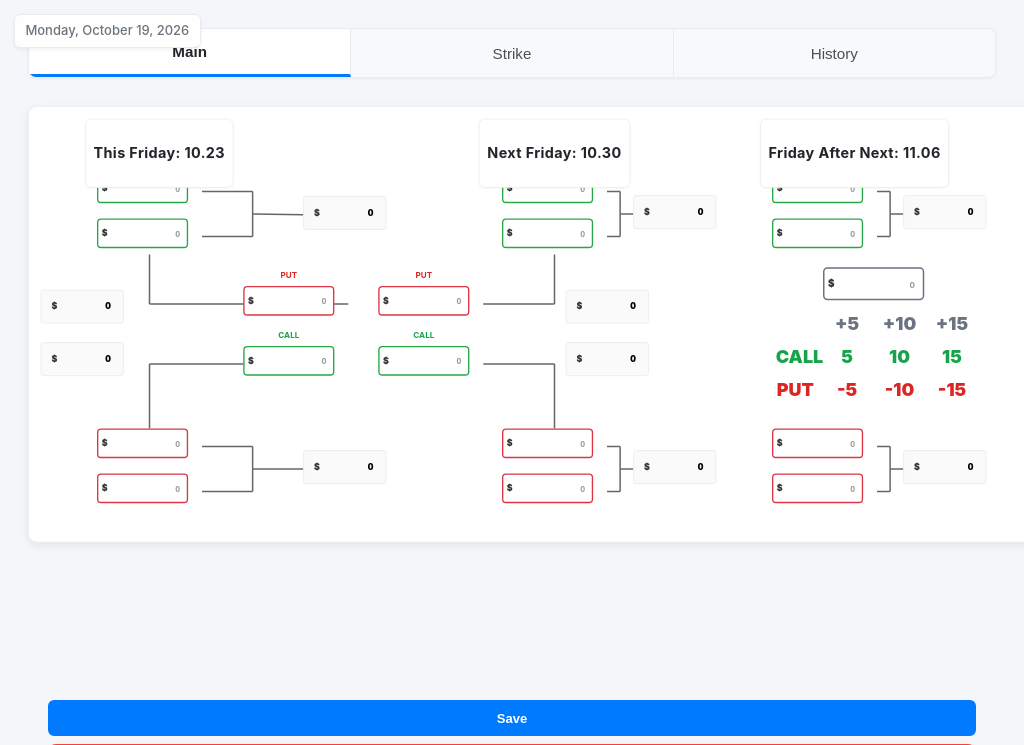
Test: App Integration Tests › Complete Input-to-Output Flow › should handle multiple calculations from same input
Input values
Type "100" into the 9th field with placeholder "0".
click(143, 443); type("100")  # box [97,428,188,458]
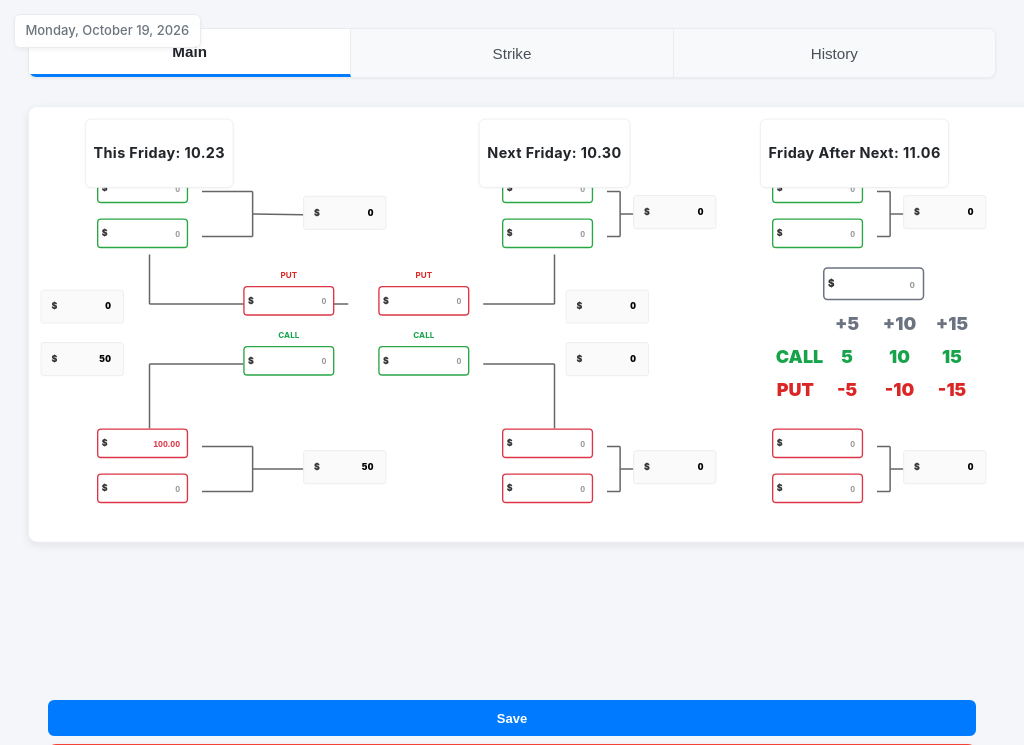
Type "200" into the 11th field with placeholder "0".
click(143, 488); type("200")  # box [97,474,188,503]
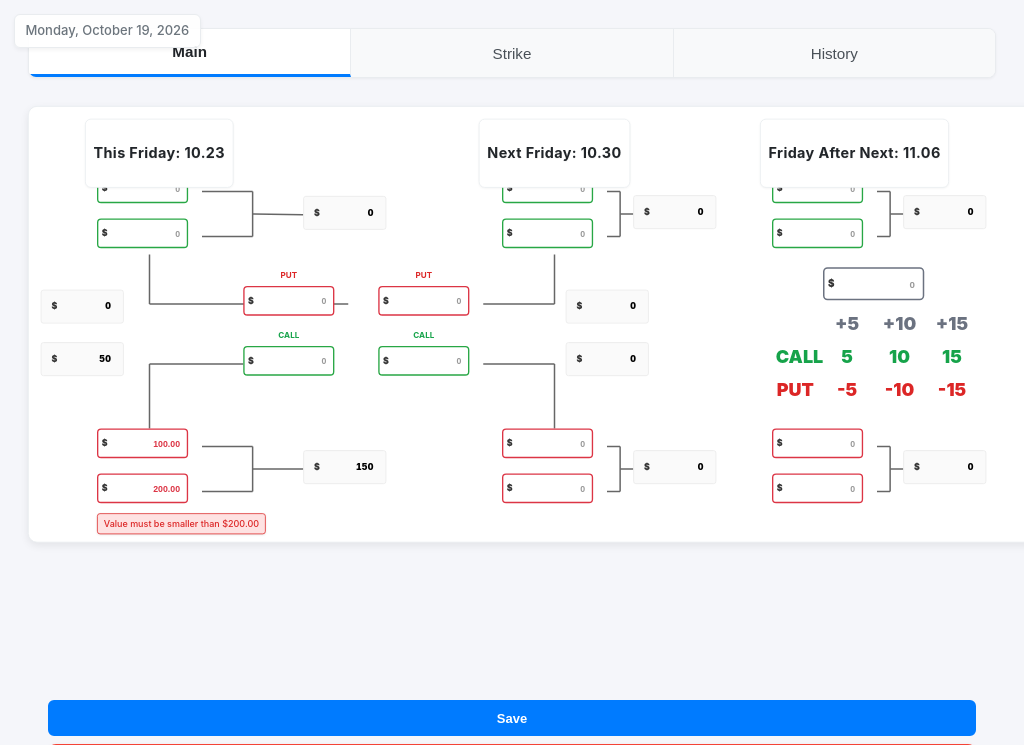
Type "300" into the 7th field with placeholder "0".
click(289, 361); type("300")  # box [243,346,334,376]
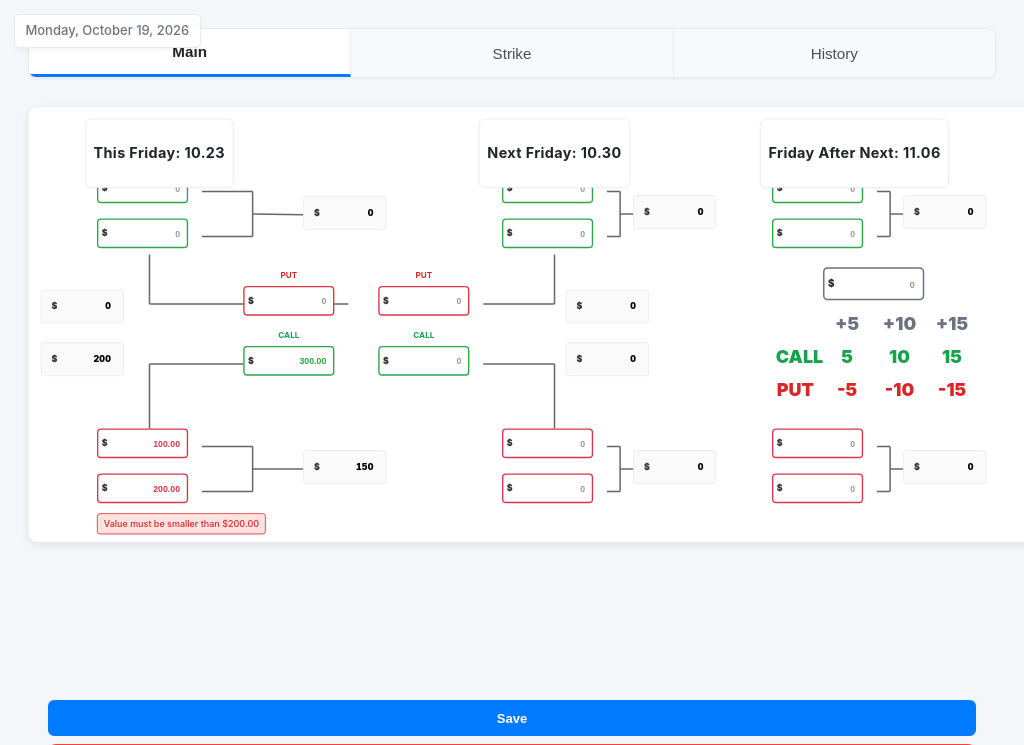
expect the text with class "average-value" reads "150": met, box [356,461,374,472]
expect the text with class "average-value" reads "200": met, box [94,353,111,364]
